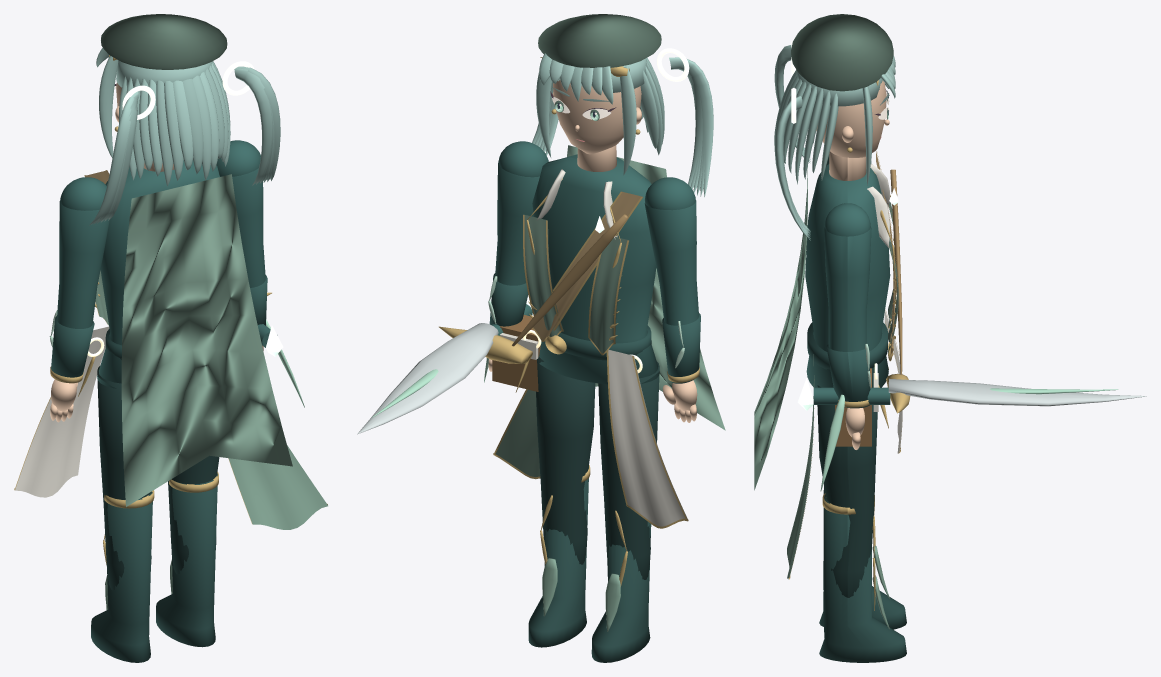
File: character_22.glb
3 views of the same model, side by side, from view 1: azimuth 30°, elevation 25°; view 2: azimuth 150°, elevation 25°; view 3: azimuth 270°, elevation 25° (orthographic). The views are drawn at different scales.
Parts seen in each view (by area): view 1: _MeshInstance3D_6478, _MeshInstance3D_6514, _MeshInstance3D_6489, _MeshInstance3D_6480, _MeshInstance3D_6483, _MeshInstance3D_6522, _MeshInstance3D_6472, _MeshInstance3D_6458, _MeshInstance3D_6474, _MeshInstance3D_6492, _MeshInstance3D_6479, _MeshInstance3D_6515 (+9 smaller); view 2: _MeshInstance3D_6458, _MeshInstance3D_6488, _MeshInstance3D_6472, _MeshInstance3D_6483, _MeshInstance3D_6514, _MeshInstance3D_6522, _MeshInstance3D_6492, _MeshInstance3D_6479, _MeshInstance3D_6495, _MeshInstance3D_6489, _MeshInstance3D_6480, _MeshInstance3D_6501 (+22 smaller); view 3: _MeshInstance3D_6458, _MeshInstance3D_6492, _MeshInstance3D_6489, _MeshInstance3D_6522, _MeshInstance3D_6488, _MeshInstance3D_6478, _MeshInstance3D_6495, _MeshInstance3D_6514, _MeshInstance3D_6501, _MeshInstance3D_6493, _MeshInstance3D_6520, _MeshInstance3D_6515 (+11 smaller).
Boxes of the visible parts, box(x1,y1,x2,y2) form: _MeshInstance3D_6478: box(121, 174, 292, 506); _MeshInstance3D_6514: box(89, 48, 273, 225); _MeshInstance3D_6489: box(156, 473, 217, 647); _MeshInstance3D_6480: box(91, 492, 152, 662); _MeshInstance3D_6483: box(57, 177, 109, 381); _MeshInstance3D_6522: box(101, 14, 227, 69); _MeshInstance3D_6472: box(15, 326, 109, 497); _MeshInstance3D_6458: box(97, 160, 219, 388); _MeshInstance3D_6474: box(229, 445, 327, 529); _MeshInstance3D_6492: box(216, 140, 277, 347); _MeshInstance3D_6479: box(97, 366, 151, 590); _MeshInstance3D_6515: box(119, 63, 228, 180); _MeshInstance3D_6458: box(532, 154, 659, 384); _MeshInstance3D_6488: box(536, 356, 595, 564); _MeshInstance3D_6472: box(608, 350, 688, 526); _MeshInstance3D_6483: box(644, 177, 698, 383); _MeshInstance3D_6514: box(536, 53, 713, 197); _MeshInstance3D_6522: box(538, 14, 661, 67); _MeshInstance3D_6492: box(491, 141, 548, 335); _MeshInstance3D_6479: box(598, 361, 659, 579); _MeshInstance3D_6495: box(357, 323, 498, 434); _MeshInstance3D_6489: box(528, 466, 588, 647); _MeshInstance3D_6480: box(591, 522, 651, 662); _MeshInstance3D_6501: box(552, 80, 641, 154); _MeshInstance3D_6458: box(805, 164, 890, 387); _MeshInstance3D_6492: box(813, 203, 890, 408); _MeshInstance3D_6489: box(819, 494, 906, 662); _MeshInstance3D_6522: box(791, 14, 893, 91); _MeshInstance3D_6488: box(817, 385, 877, 597); _MeshInstance3D_6478: box(754, 166, 807, 490); _MeshInstance3D_6495: box(888, 378, 1146, 406); _MeshInstance3D_6514: box(775, 45, 895, 236); _MeshInstance3D_6501: box(816, 80, 889, 157); _MeshInstance3D_6493: box(826, 344, 870, 401); _MeshInstance3D_6520: box(774, 47, 810, 240); _MeshInstance3D_6515: box(779, 76, 830, 173).
Bounding box in the file's own units: 1.02 × 2.36 × 1.39.
